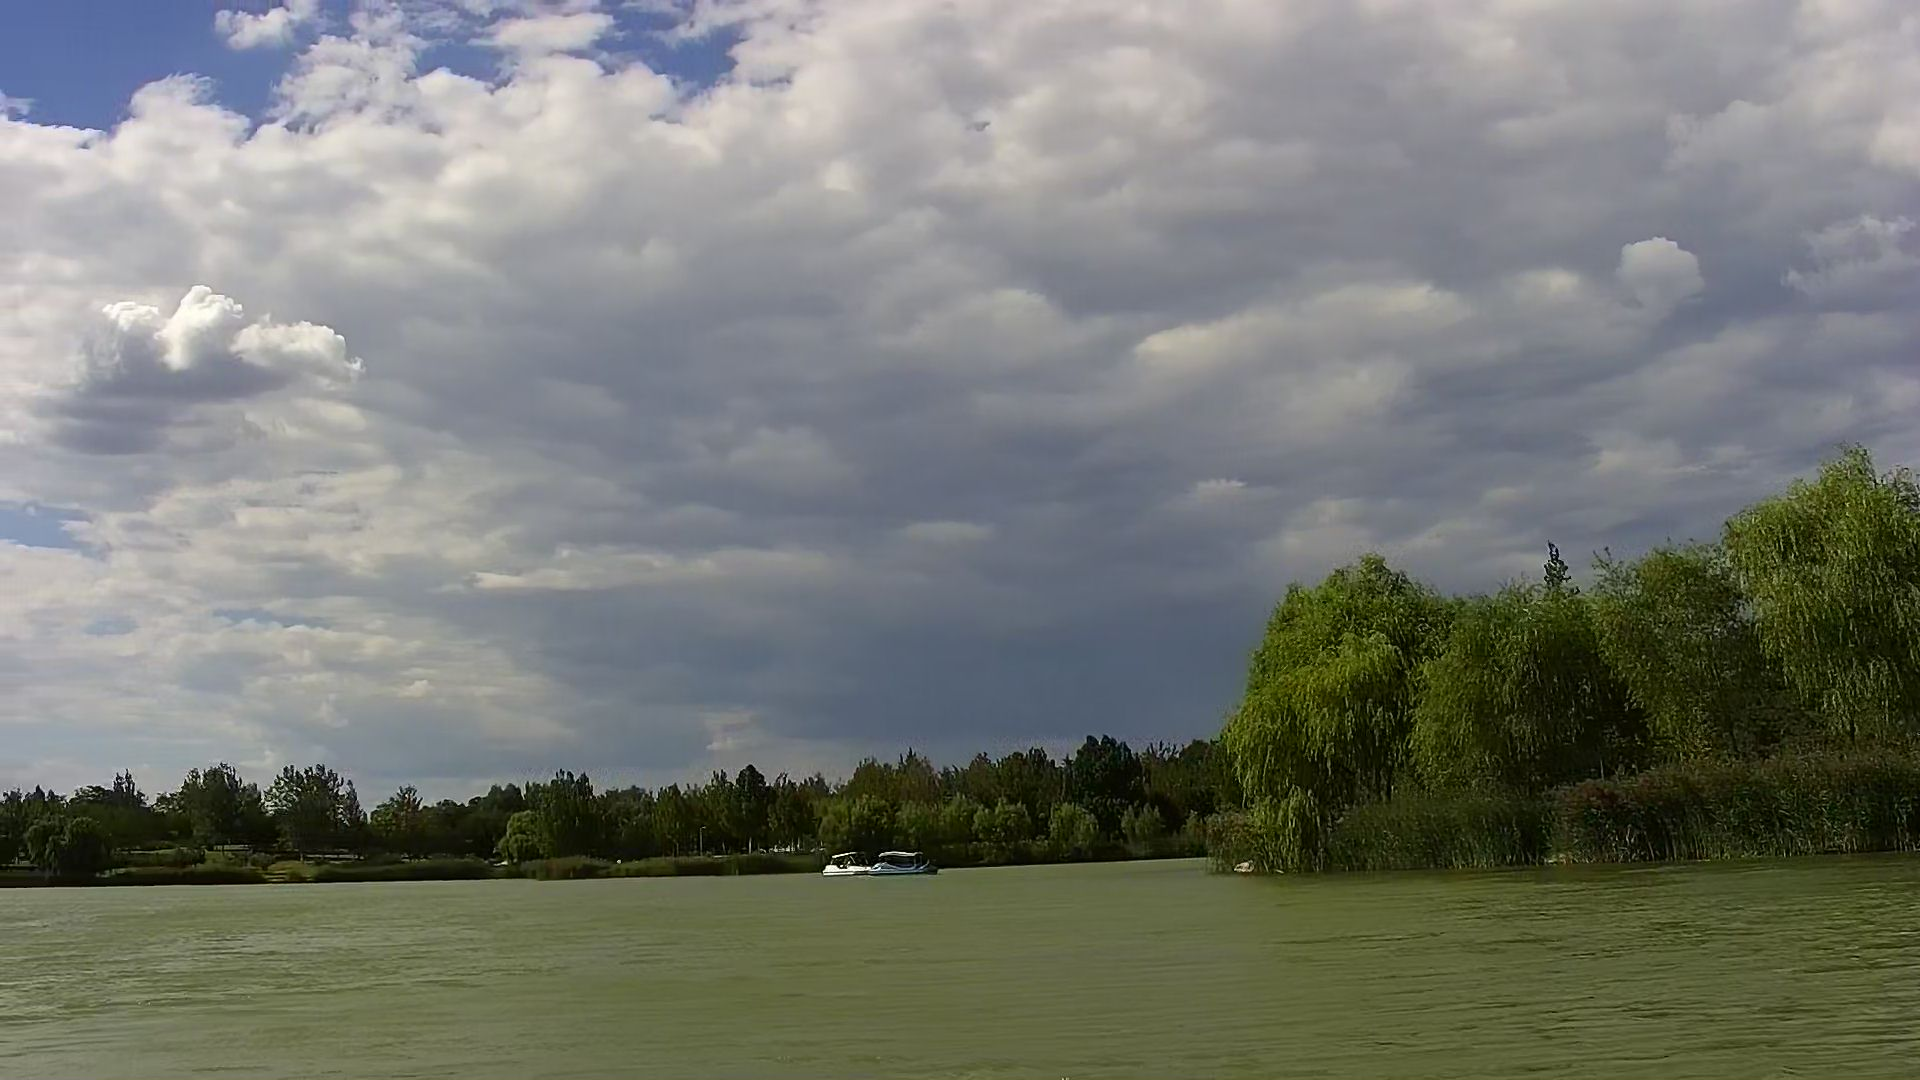boat: (872, 851, 940, 880), (822, 851, 878, 880)
rock: (1232, 858, 1259, 877)
